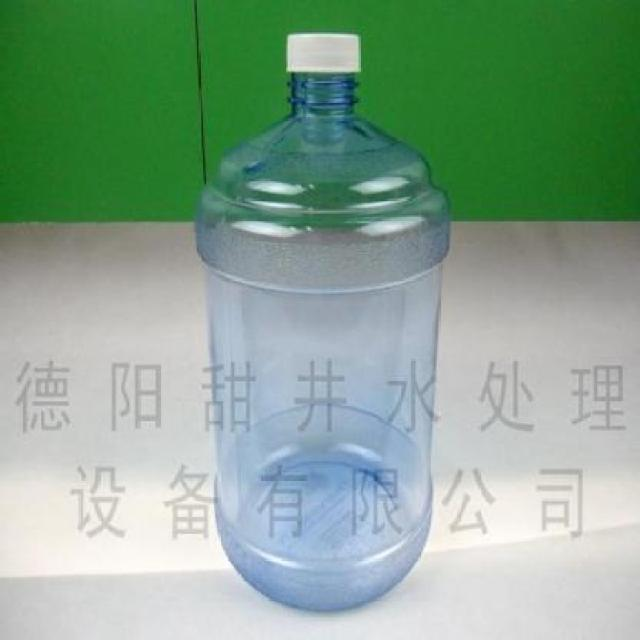coolerbottle: (186, 26, 459, 626)
